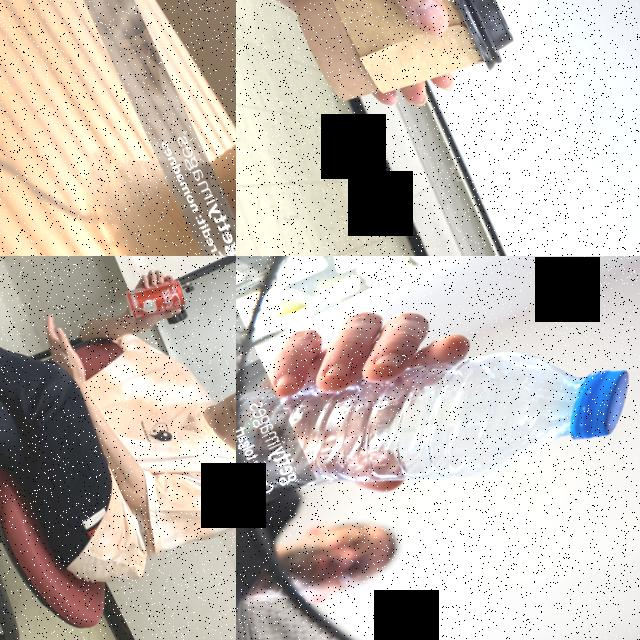bottle: (236, 256, 640, 600)
can: (118, 267, 189, 329)
cup: (268, 0, 523, 137), (191, 77, 236, 256)
